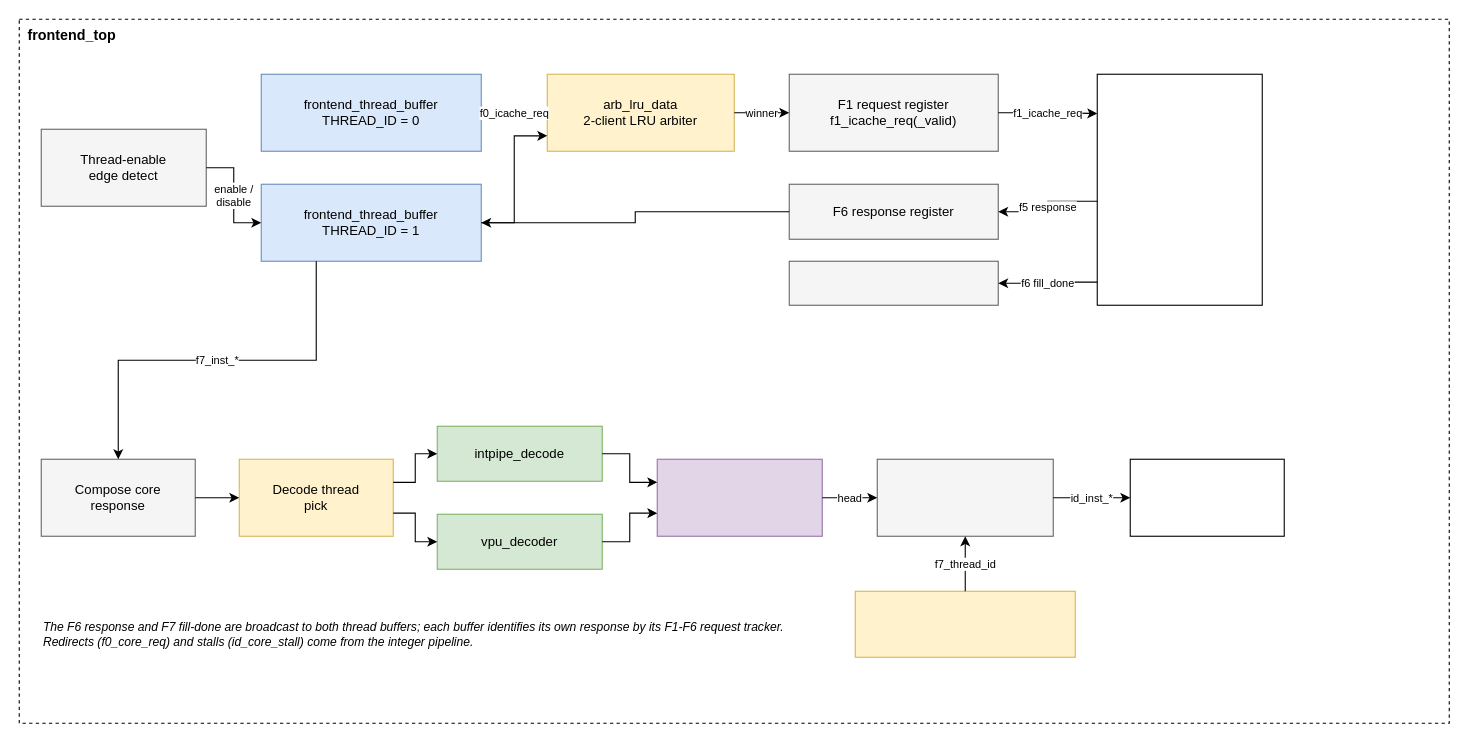
The diagram is 1469 pixels wide and 743 high, and some of its shapes have lost their labels. Here are the shapes that lost their labels. From the top down, the box of each, then its label:
(1096, 73, 1262, 305): Neighborhood L0 micro-cache and L1 I-cache
(788, 260, 998, 305): F7 fill-done register
(656, 458, 822, 536): Per-thread 2-entry FIFOs
(876, 458, 1053, 536): ID mux id_inst_thread_id
(1129, 458, 1284, 536): Integer pipeline (intpipe)
(854, 590, 1075, 657): frontend_thread_sched f7_thread_id
